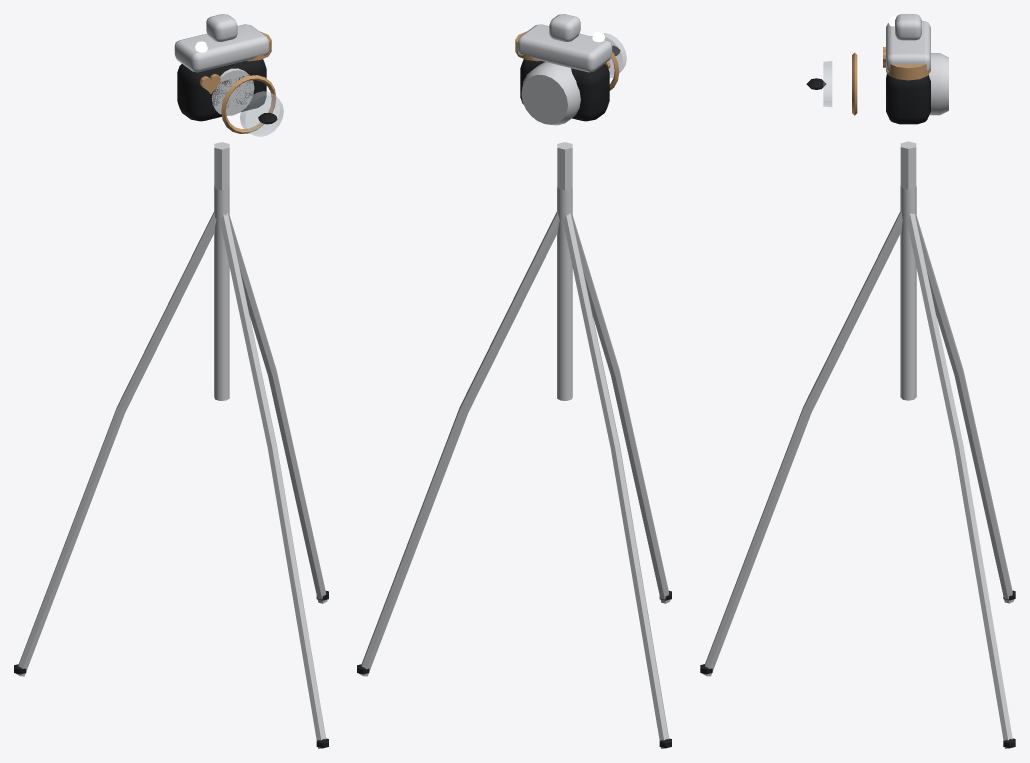
Rendered from camera_tripod_pro.glb.
3 views of the same model, side by side, from view 1: azimuth 30°, elevation 25°; view 2: azimuth 150°, elevation 25°; view 3: azimuth 270°, elevation 25° (orthographic).
Visible parts, largest first — view 1: camera_tripod_pro; view 2: camera_tripod_pro; view 3: camera_tripod_pro.
Boxes of the visible parts, x1,y1,x2,y2 form: camera_tripod_pro: [14, 14, 328, 748]; camera_tripod_pro: [357, 14, 671, 748]; camera_tripod_pro: [700, 14, 1015, 748].
Bounding box in the file's own units: 0.8106 × 1.62 × 0.702.
